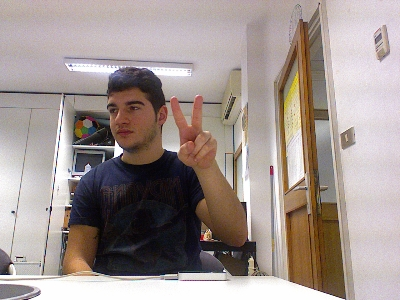剪刀: (168, 94, 217, 170)
